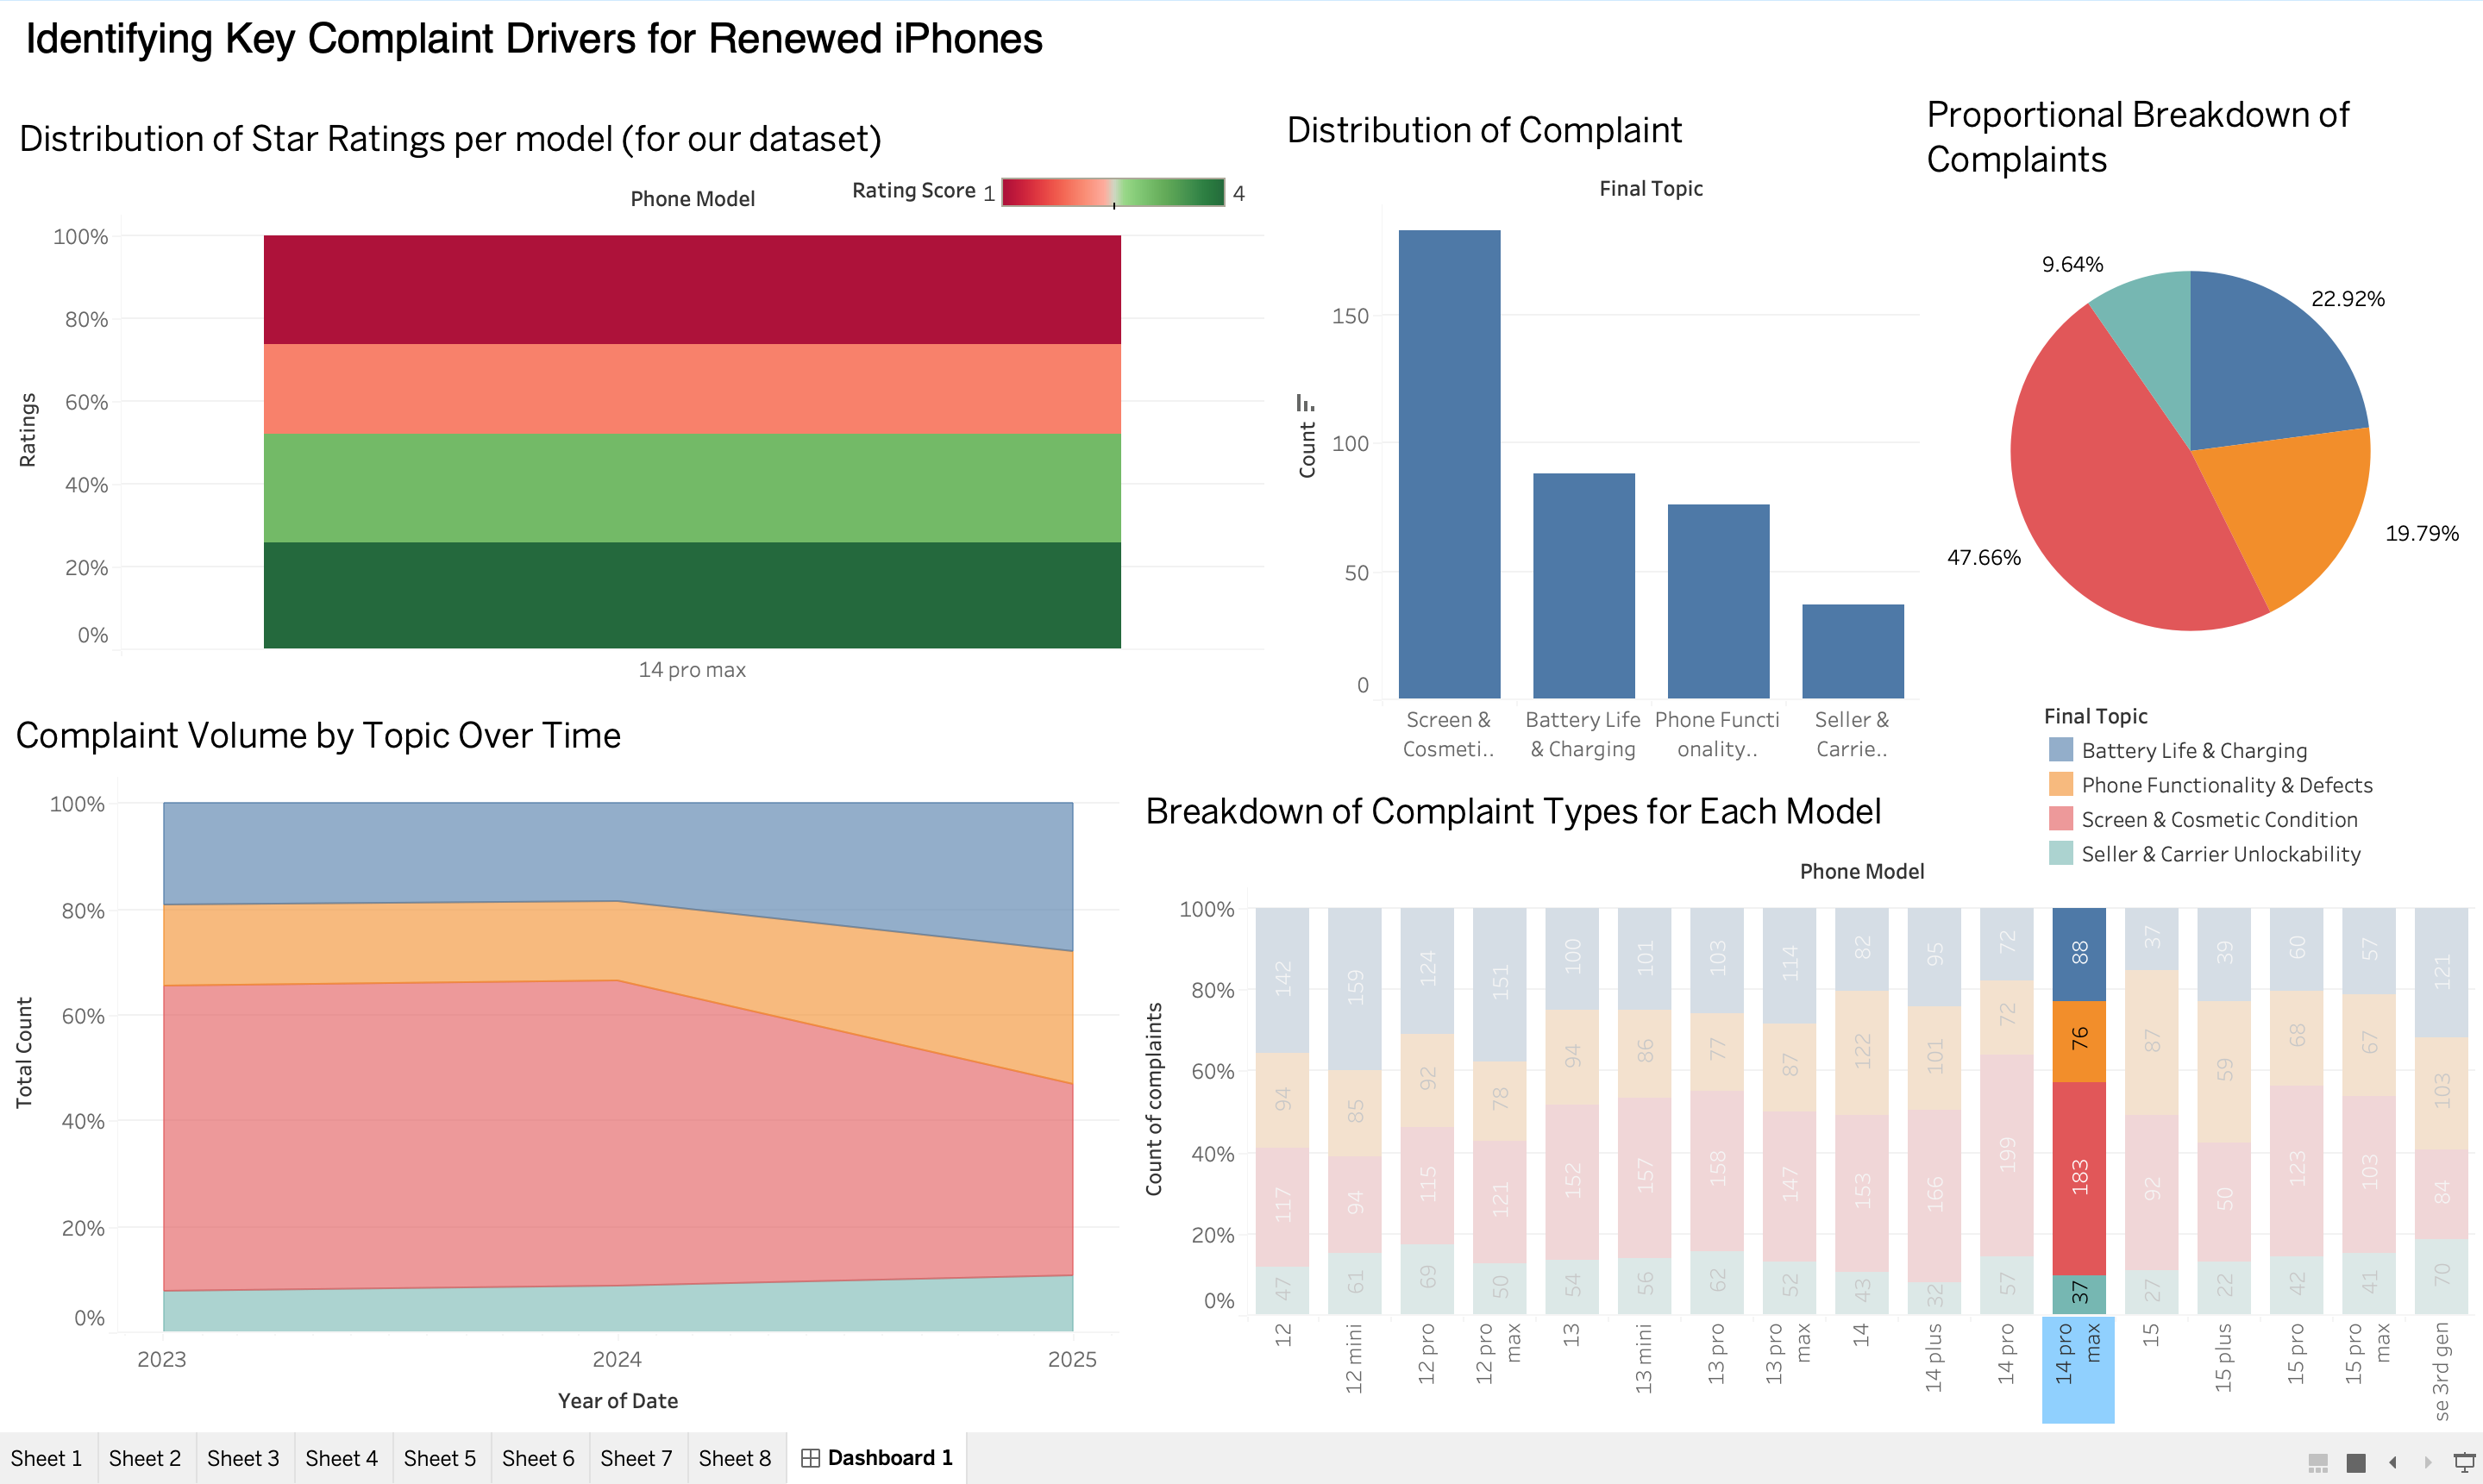

The page's visual inventory and layout, read from the dashboard file:
{"tool":"tableau","page":{"name":"Dashboard 1","canvas":[1000,1000],"units":"permille","ordinal":0},"visuals":[{"type":"title","box":[6.5,10.4,987,41.7]},{"type":"worksheet","title":"Sheet 2","mark":"Pie","box":[773,58.6,218.1,429.7]},{"type":"worksheet","title":"Sheet 1","mark":"Automatic","rows":["dashboard_ready_data.csv_B38BA18D6B454ACE9A420E0065C7907D"],"cols":["final_topic"],"box":[515,70.3,257.9,466.2]},{"type":"worksheet","title":"Sheet 5","mark":"Automatic","cols":["Calculation_100556971031543809"],"box":[4.9,75.5,504.5,425.8]},{"type":"legend","title":"Sheet 5","param":"[federated.1mf78hi1ex3jng1btt0pn013t43u].[none:ratingScore:qk]","box":[343.4,119.8,161.9,36.5]},{"type":"legend","title":"Sheet 4","param":"[federated.1mf78hi1ex3jng1btt0pn013t43u].[none:final_topic:nk]","box":[822.6,489.6,170.1,130.2]},{"type":"worksheet","title":"Sheet 4","mark":"Area","cols":["date"],"box":[3.2,492.2,447.5,503.9]},{"type":"worksheet","title":"Sheet 3","mark":"Automatic","cols":["Calculation_100556971031543809"],"box":[458.1,545.6,538.6,447.9]}]}

Visuals, with their boxes on the dashboard's canvas, which has no fixed pixel size, in thousandths of its width and height (x1, y1, x2, y2). These are canvas units, not pixel positions in the 2483x1484 screenshot, which may show the page scaled, cropped or inside an application window:
title: (6,10,994,52)
"Sheet 2" worksheet (Pie marks): (773,59,991,488)
"Sheet 1" worksheet: (515,70,773,536)
"Sheet 5" worksheet: (5,76,509,501)
"Sheet 5" legend: (343,120,505,156)
"Sheet 4" legend: (823,490,993,620)
"Sheet 4" worksheet (Area marks): (3,492,451,996)
"Sheet 3" worksheet: (458,546,997,994)
